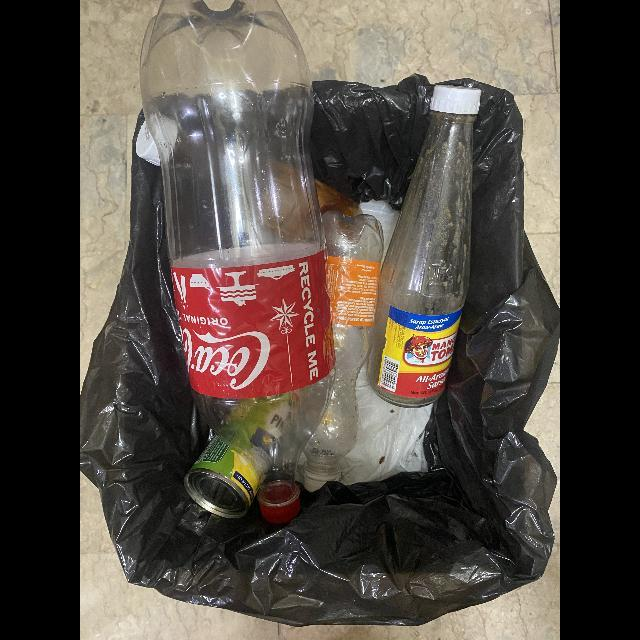glass: (366, 79, 481, 410)
metal: (183, 435, 260, 519)
plastic: (139, 0, 336, 530), (302, 212, 384, 494)
